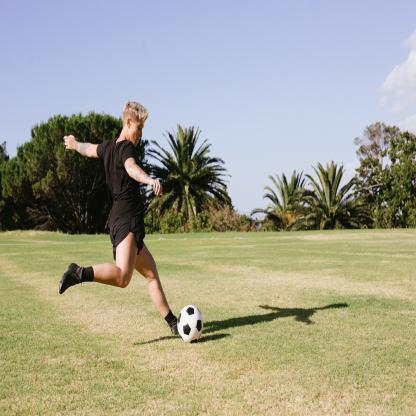ball: (176, 306, 204, 344)
